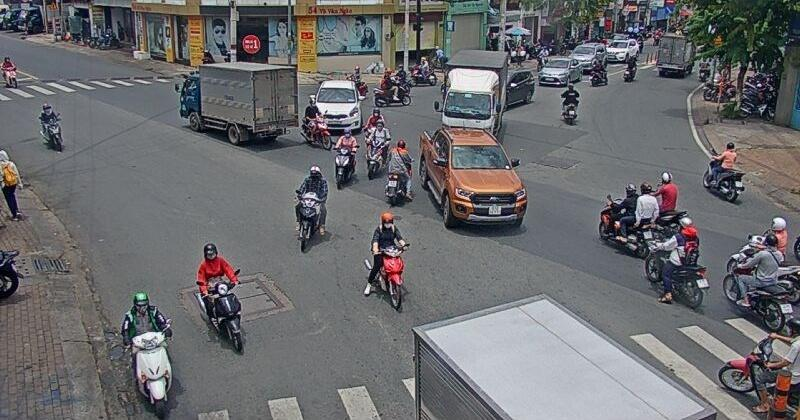xe hoi: (418, 124, 528, 232)
xe may: (116, 287, 179, 420), (721, 235, 794, 333), (191, 239, 251, 358), (642, 215, 708, 309), (360, 209, 406, 310), (597, 181, 656, 255), (295, 161, 326, 249), (702, 139, 743, 203), (382, 138, 415, 206), (330, 125, 359, 191), (298, 97, 333, 148), (363, 120, 390, 180), (373, 66, 410, 108), (38, 104, 64, 151), (559, 82, 578, 124)
xe tai: (181, 64, 302, 146), (439, 48, 505, 143)
